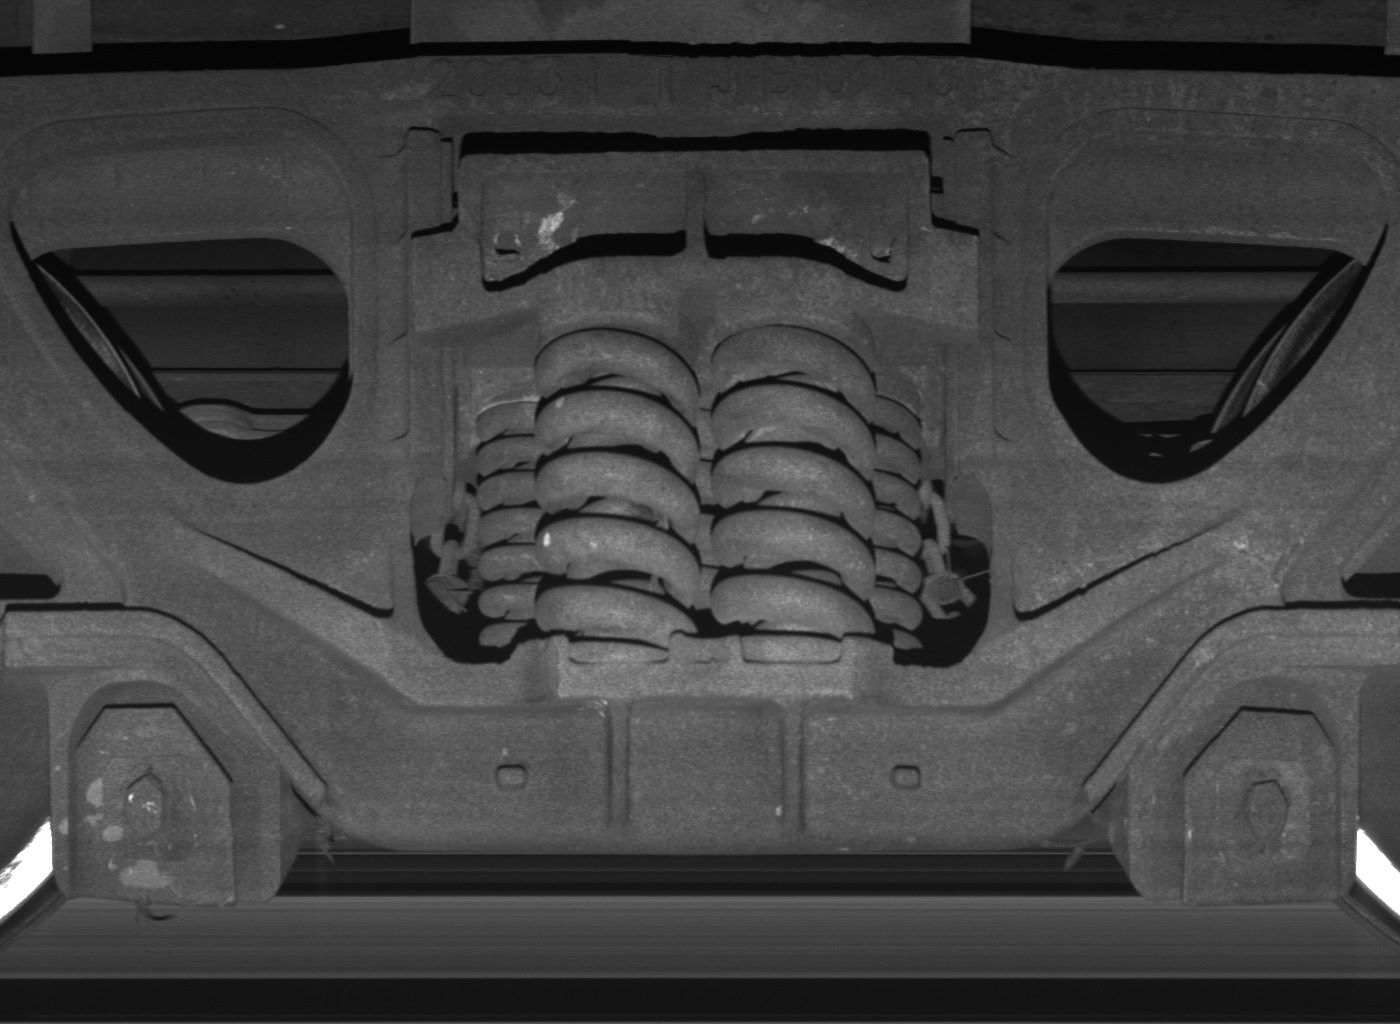normal: (51, 683, 284, 906), (1126, 680, 1354, 907)
